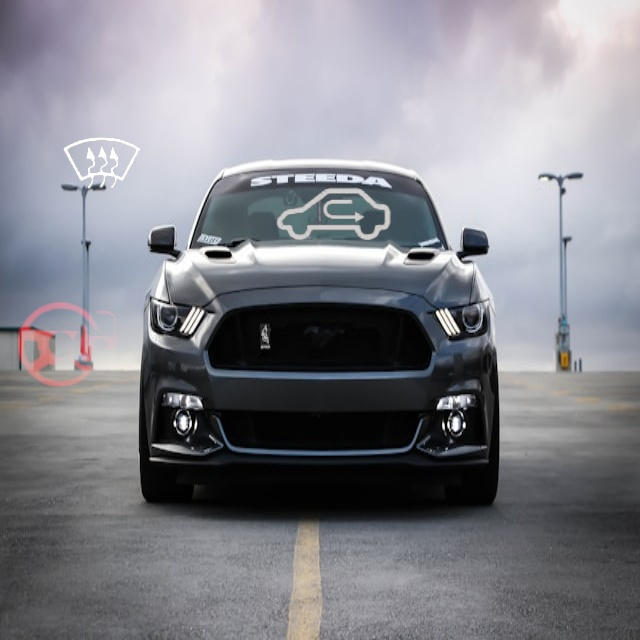symbol: (259, 141, 409, 291), (1, 277, 138, 414), (40, 101, 166, 227)
